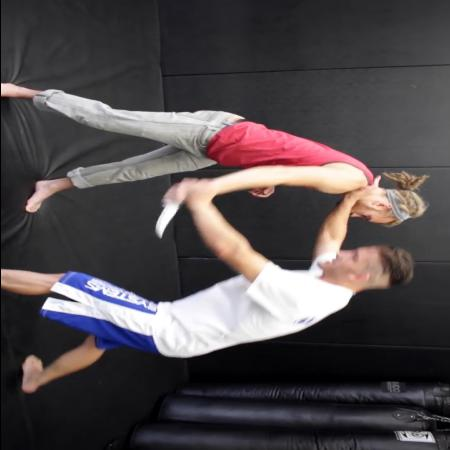long weapon: (146, 173, 202, 243)
